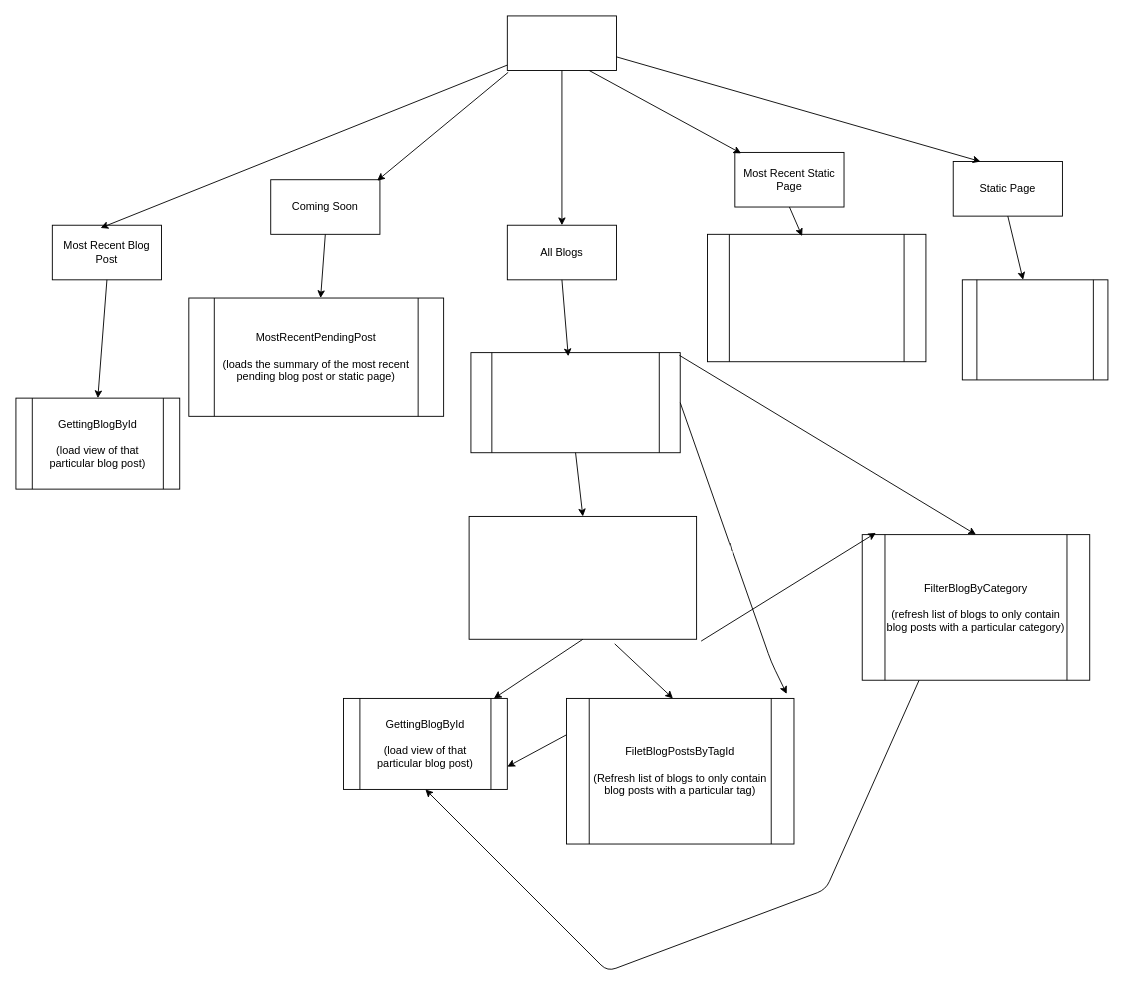
This 1124x995 diagram has some shape labels left out. Each missing label, with the centre of its shape:
"Blog List (view containing all blogs )" goes at point 582,577.
"GetAllBlogs (all blogs are loaded in chronological order)" goes at point 575,402.
"GetStaticPageById (That paticular static page's view is loaded)" goes at point 1034,329.
"Home" goes at point 561,43.
"MostRecentStaticPage (load the most recent static page)" goes at point 816,297.
